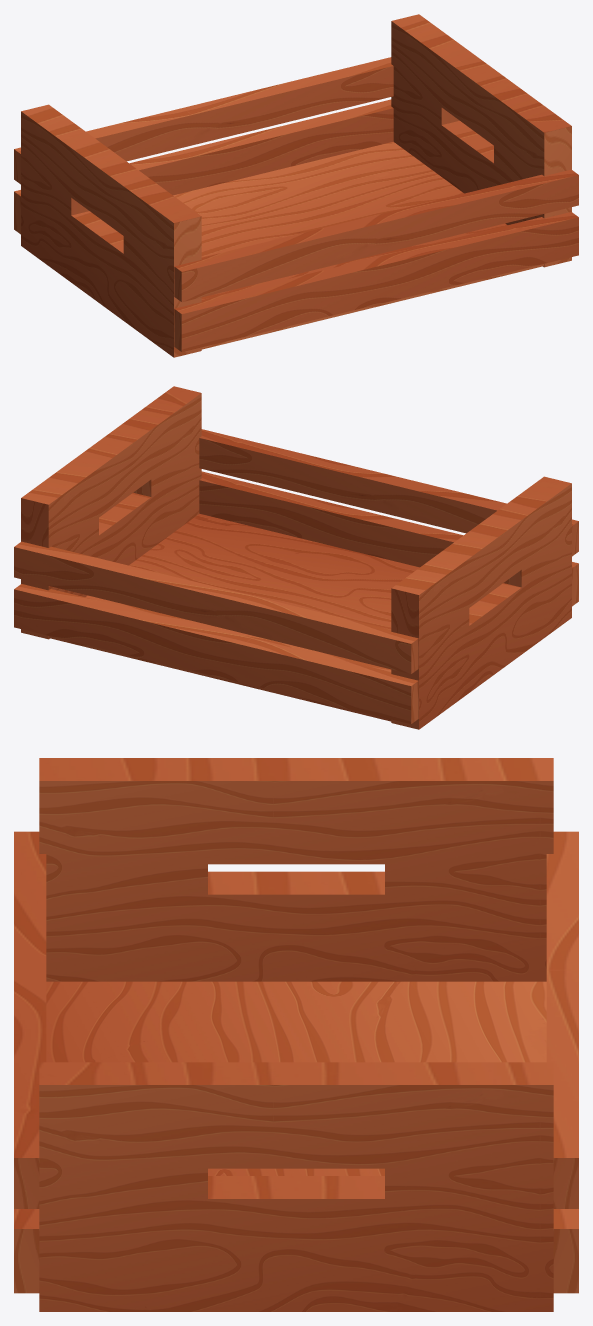
Rendered from fruit box.fbx.
The picture shows the model from 3 angles, top to bottom: view 1: azimuth 30°, elevation 25°; view 2: azimuth 150°, elevation 25°; view 3: azimuth 270°, elevation 25°; orthographic projection. The views are drawn at different scales.
Visible parts, largest first — view 1: Cube.058; view 2: Cube.058; view 3: Cube.058.
Part boxes in pixels (<box>): Cube.058: <box>14,14,578,357</box>; Cube.058: <box>14,386,578,729</box>; Cube.058: <box>14,758,578,1311</box>.
Bounding box in the file's own units: 25.5 × 8.24 × 18.62.
1 material, 1 textured.
